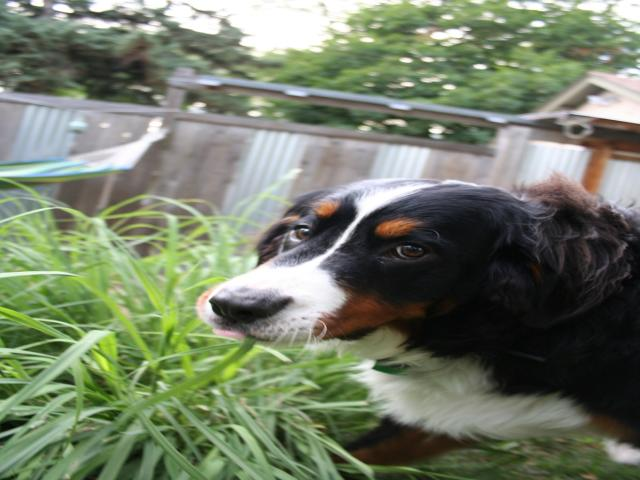Dog: (187, 168, 639, 480)
